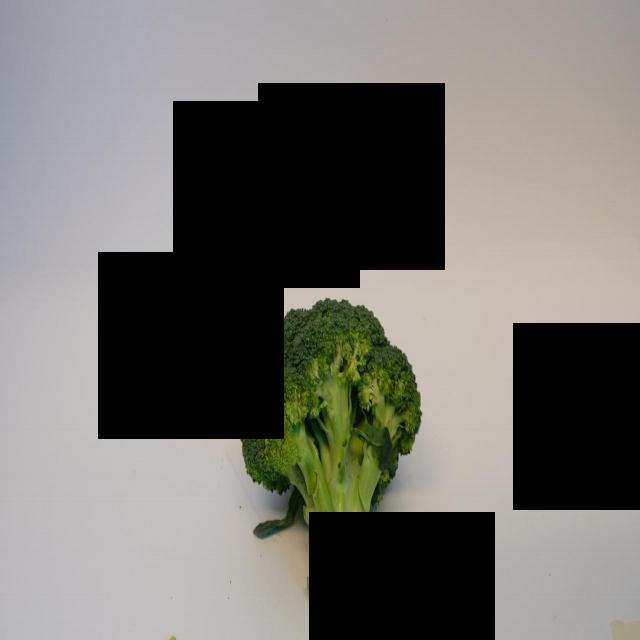broccoli: (238, 296, 424, 607)
